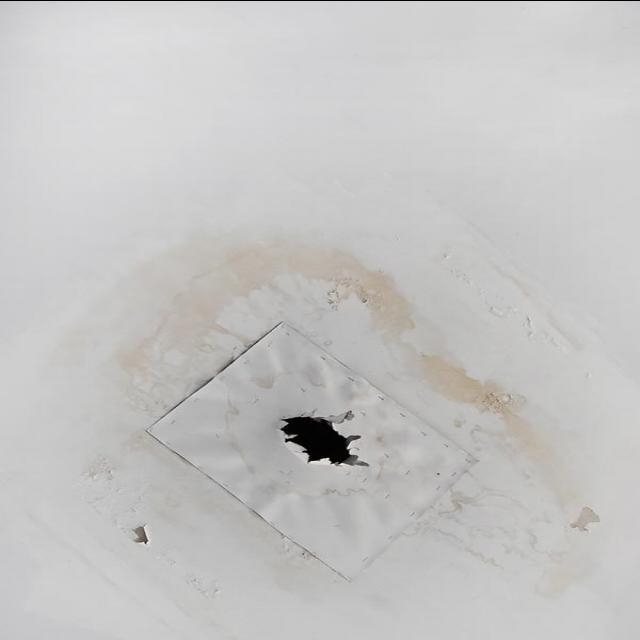Crack: (281, 406, 366, 478), (136, 520, 156, 546)
leak: (128, 232, 594, 594), (88, 447, 126, 498)
